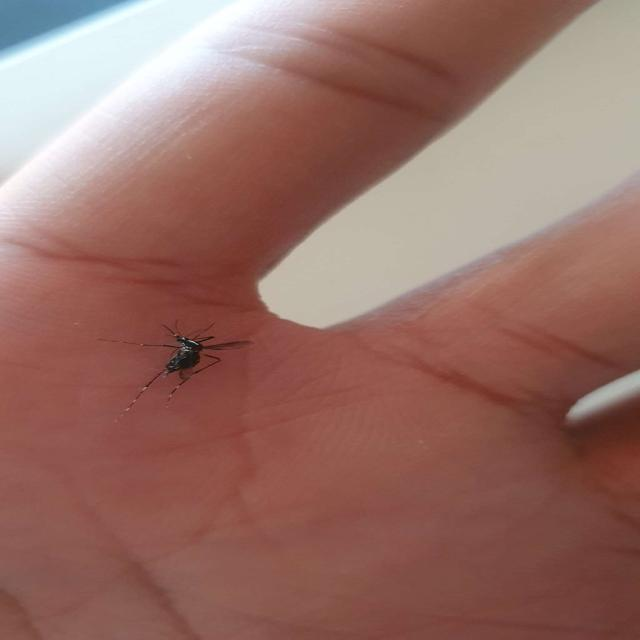albopictus: (90, 315, 254, 416)
